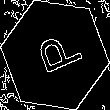P_W: (27, 28, 83, 82)
